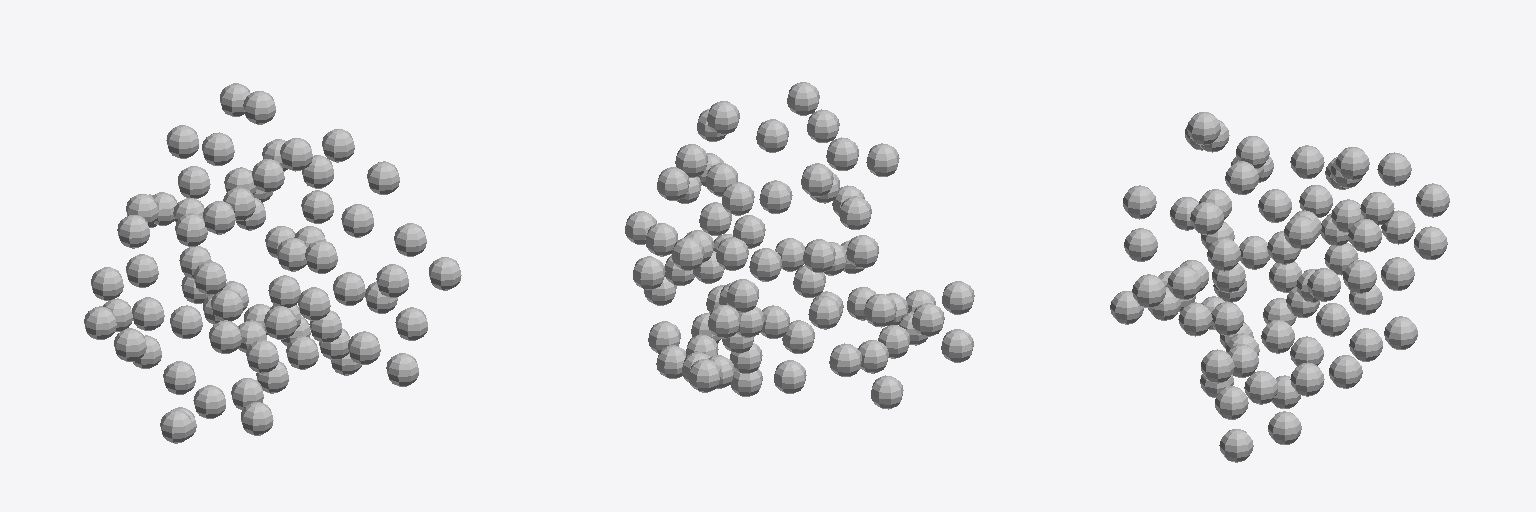
The model's file is expand.obj.
The picture shows the model from 3 angles: view 1: azimuth 30°, elevation 25°; view 2: azimuth 150°, elevation 25°; view 3: azimuth 270°, elevation 25°; orthographic projection.
Parts seen in each view (by area): view 1: Sphere; view 2: Sphere; view 3: Sphere.
Boxes of the visible parts, box(x1,y1,x2,y2) form: Sphere: box(84, 83, 461, 443); Sphere: box(625, 82, 974, 409); Sphere: box(1110, 112, 1449, 462).
Bounding box in the file's own units: 0.1958 × 0.1562 × 0.167.